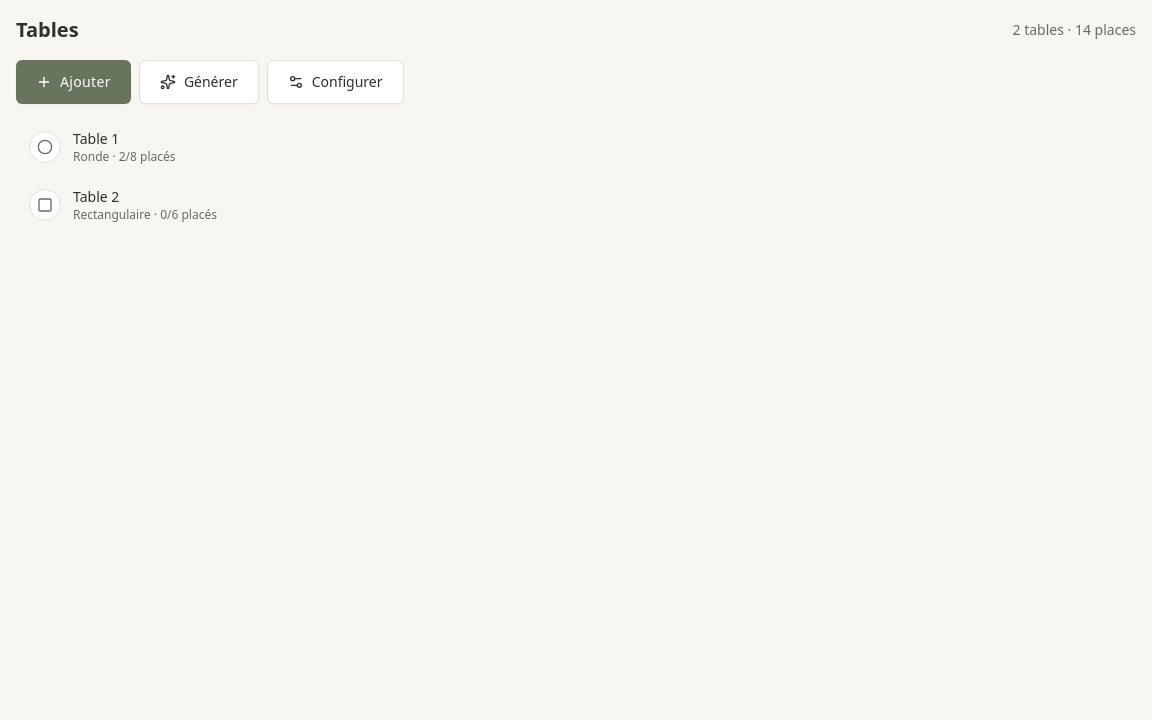
Test: TablesPanel › selecting a table opens the detail view with its guests and empty seats
The width and height of the screenshot is (1152, 720).
Click the button "Table 1 Ronde · 2/8 placés". click: (45, 147)
box: [17,121,1087,173]
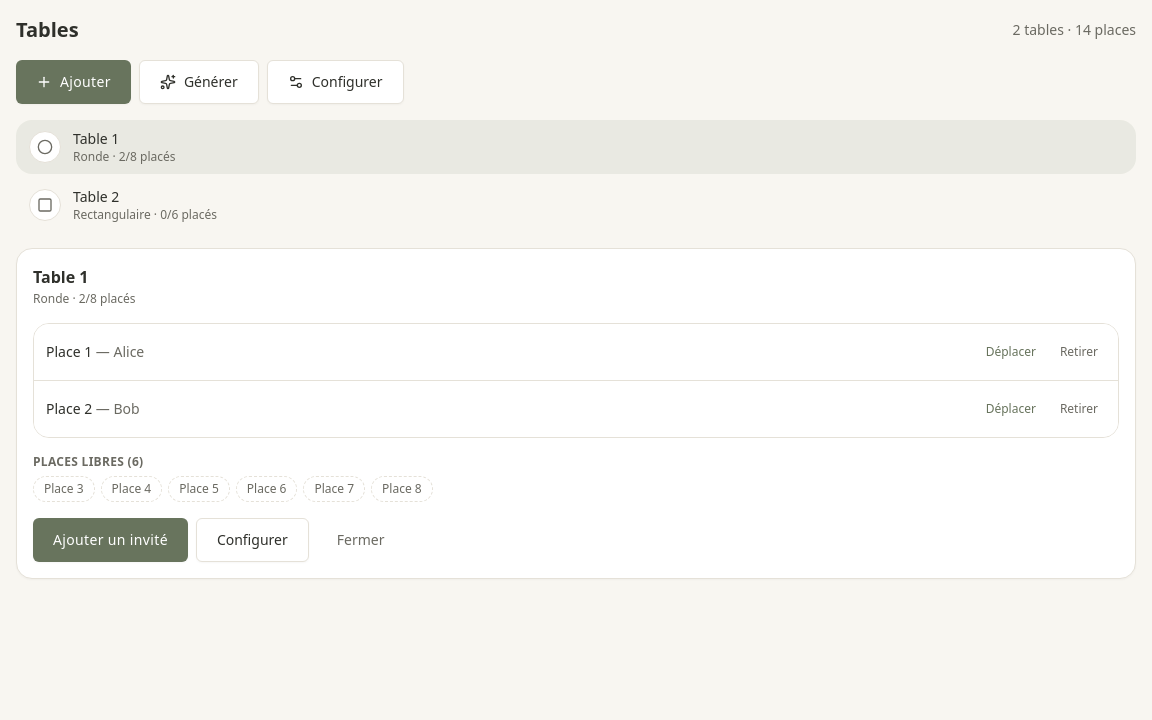
Now the element named "Détails de la table" is shown, box [16,248,1136,579]
Now the text "Place 1" is shown, box [46,342,92,361]
Now the text "— Alice" is shown, box [92,342,144,361]
